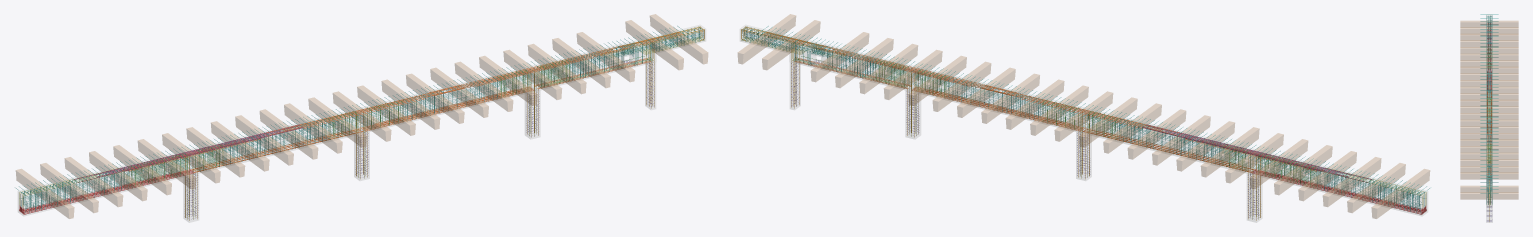
Rendered from unterzug-441-m50-ft.glb.
The picture shows the model from 3 angles, left to right: view 1: azimuth 30°, elevation 25°; view 2: azimuth 150°, elevation 25°; view 3: azimuth 270°, elevation 25°; orthographic projection. The views are drawn at different scales.
Parts seen in each view (by area): view 1: Beton, Fertigteiltraeger_3, Fertigteiltraeger_2, Fertigteiltraeger_1, Fertigteiltraeger_16, Fertigteiltraeger_15, Fertigteiltraeger_13, Fertigteiltraeger_18, Fertigteiltraeger_19, Fertigteiltraeger_11, Fertigteiltraeger_17, Fertigteiltraeger_12 (+15 smaller); view 2: Beton, Fertigteiltraeger_3, Fertigteiltraeger_1, Fertigteiltraeger_2, Fertigteiltraeger_13, Fertigteiltraeger_18, Fertigteiltraeger_15, Fertigteiltraeger_19, Fertigteiltraeger_11, Fertigteiltraeger_16, Fertigteiltraeger_17, Fertigteiltraeger_12 (+15 smaller); view 3: Beton, Fertigteiltraeger_26, Fertigteiltraeger_2, Fertigteiltraeger_14, Fertigteiltraeger_19, Fertigteiltraeger_12, Fertigteiltraeger_4, Fertigteiltraeger_7, Fertigteiltraeger_9, Fertigteiltraeger_22, Fertigteiltraeger_24, Fertigteiltraeger_17 (+27 smaller).
Boxes of the visible parts, <box> form: Beton: <box>18,25,705,222</box>; Fertigteiltraeger_3: <box>64,157,122,206</box>; Fertigteiltraeger_2: <box>40,163,98,212</box>; Fertigteiltraeger_1: <box>16,169,74,218</box>; Fertigteiltraeger_16: <box>381,79,439,129</box>; Fertigteiltraeger_15: <box>357,85,415,135</box>; Fertigteiltraeger_13: <box>308,97,366,147</box>; Fertigteiltraeger_18: <box>430,68,488,117</box>; Fertigteiltraeger_19: <box>455,62,512,111</box>; Fertigteiltraeger_11: <box>260,109,317,159</box>; Fertigteiltraeger_17: <box>406,74,464,123</box>; Fertigteiltraeger_12: <box>284,103,342,153</box>; Beton: <box>740,25,1427,222</box>; Fertigteiltraeger_3: <box>1323,157,1381,206</box>; Fertigteiltraeger_1: <box>1371,169,1429,218</box>; Fertigteiltraeger_2: <box>1347,163,1405,212</box>; Fertigteiltraeger_13: <box>1079,97,1137,147</box>; Fertigteiltraeger_18: <box>957,68,1015,117</box>; Fertigteiltraeger_15: <box>1030,85,1088,135</box>; Fertigteiltraeger_19: <box>933,62,990,111</box>; Fertigteiltraeger_11: <box>1128,109,1185,159</box>; Fertigteiltraeger_16: <box>1006,79,1064,129</box>; Fertigteiltraeger_17: <box>981,74,1039,123</box>; Fertigteiltraeger_12: <box>1103,103,1161,153</box>; Beton: <box>1486,14,1492,222</box>; Fertigteiltraeger_26: <box>1460,192,1518,199</box>; Fertigteiltraeger_2: <box>1460,27,1518,34</box>; Fertigteiltraeger_14: <box>1460,106,1518,113</box>; Fertigteiltraeger_19: <box>1460,139,1518,146</box>; Fertigteiltraeger_12: <box>1460,93,1518,100</box>; Fertigteiltraeger_4: <box>1460,40,1518,47</box>; Fertigteiltraeger_7: <box>1460,60,1518,67</box>; Fertigteiltraeger_9: <box>1460,73,1518,80</box>; Fertigteiltraeger_22: <box>1460,159,1518,166</box>; Fertigteiltraeger_24: <box>1460,172,1518,179</box>; Fertigteiltraeger_17: <box>1460,126,1518,133</box>.
Size of the model in its own units: 0.672 by 0.064 by 0.09.
